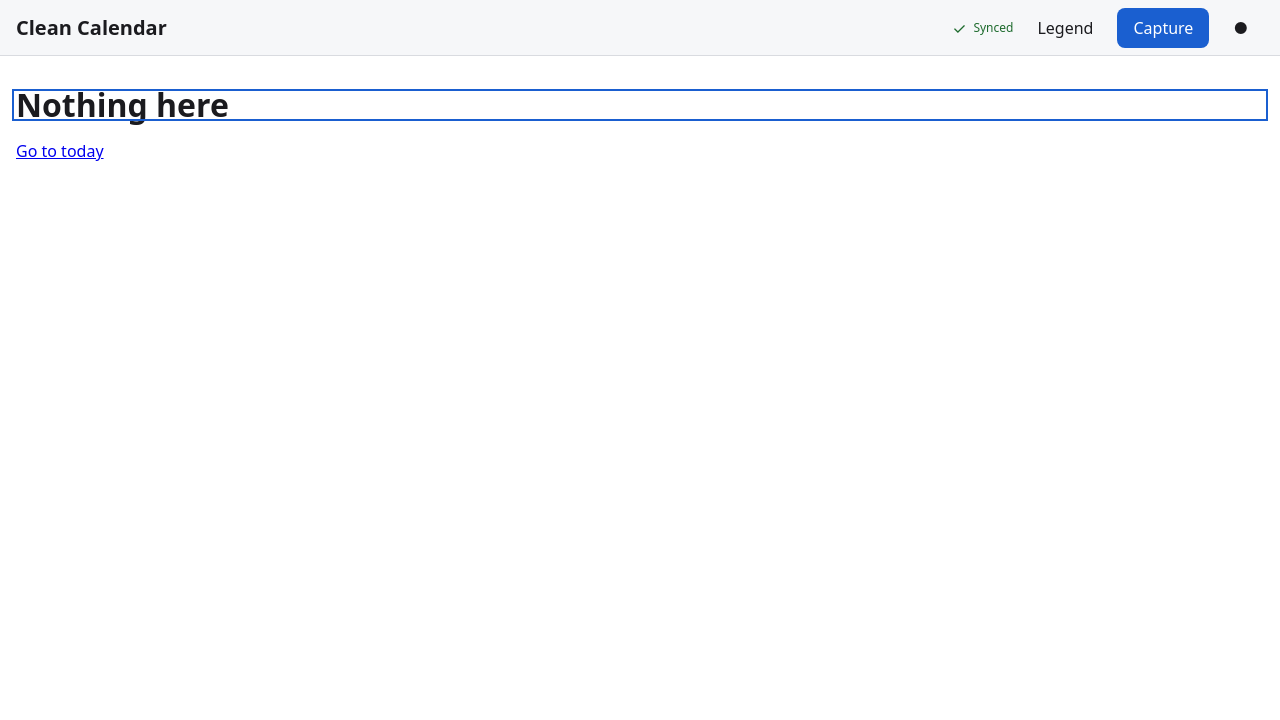
Test: routes (AC-2) › takes the user to today's calendar from the not-found page
This screenshot has width=1280, height=720.
Check: the heading "Nothing here" is shown, box [16,83,229,126]
Click the link "Go to today". click: (60, 151)
box: [16,140,104,162]
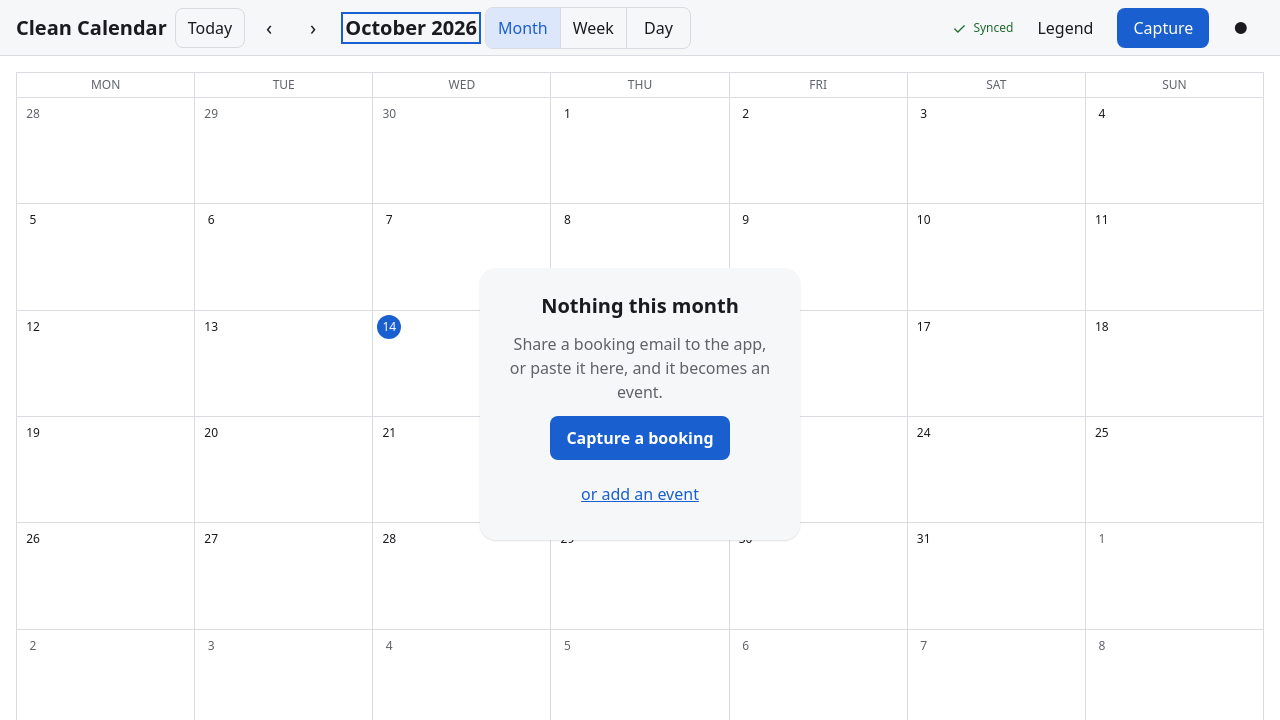
Check: the heading "October 2026" is shown, box [345,16,477,40]
